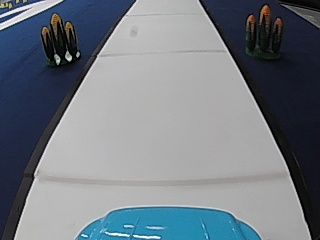corn: (242, 3, 284, 60), (39, 11, 81, 65)
